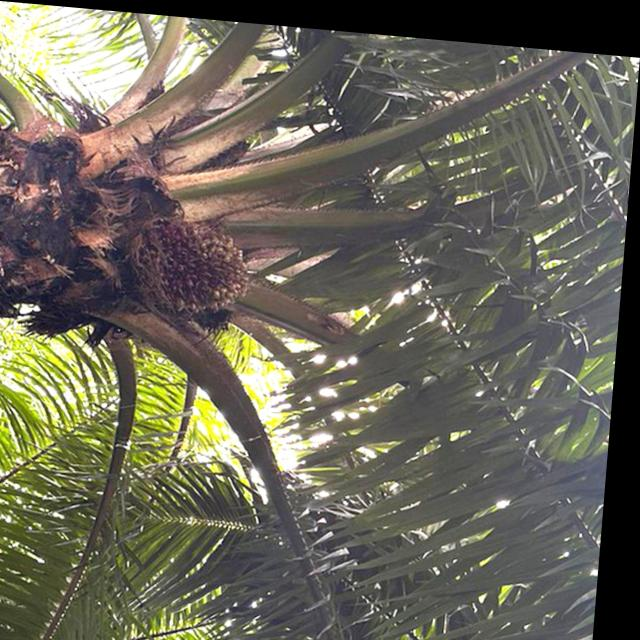ripe: (129, 206, 261, 321)
